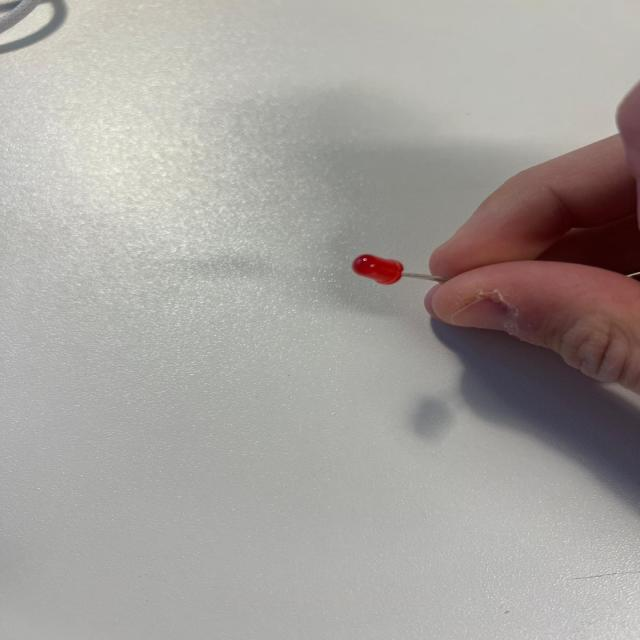REDLed: (349, 223, 471, 306)
